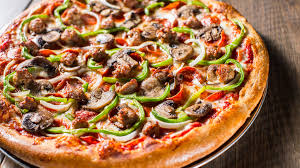pizza: (4, 3, 268, 163)
